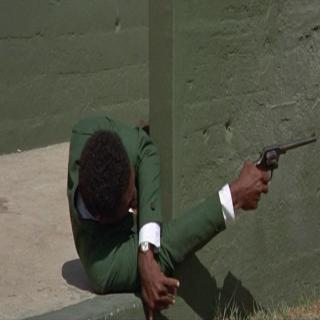gun: (250, 126, 318, 212)
